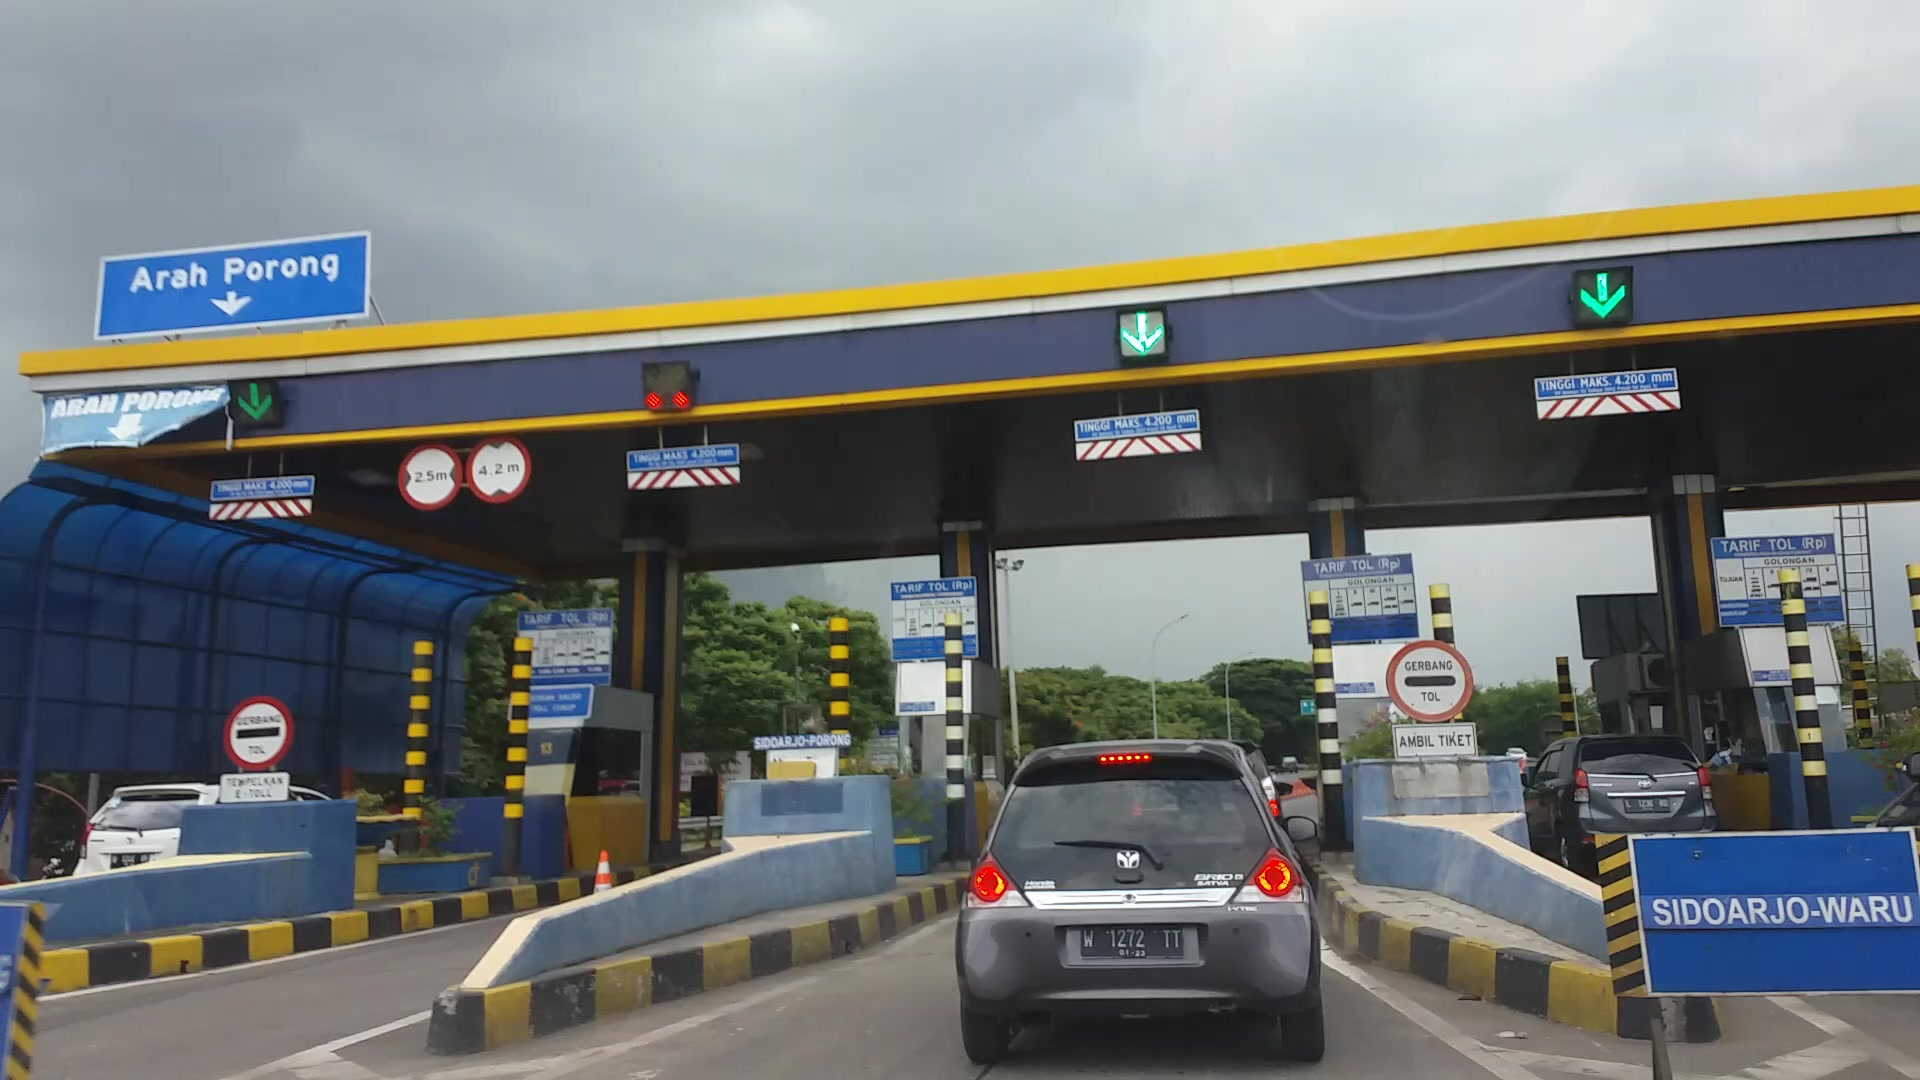plate_positive: (1080, 924, 1183, 960)
